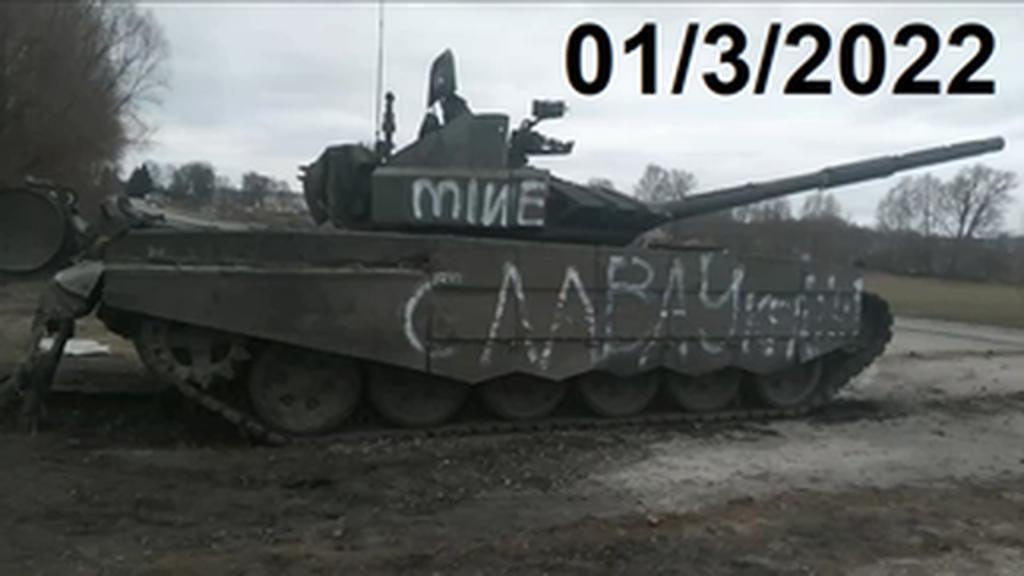TANK: (0, 46, 1010, 442)
